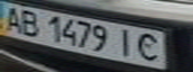1: (39, 12, 63, 43)
4: (57, 16, 78, 47)
7: (72, 19, 93, 49)
9: (90, 23, 112, 53)
A: (0, 3, 27, 34)
B: (15, 7, 45, 38)
C: (133, 30, 169, 63)
I: (112, 26, 139, 59)
